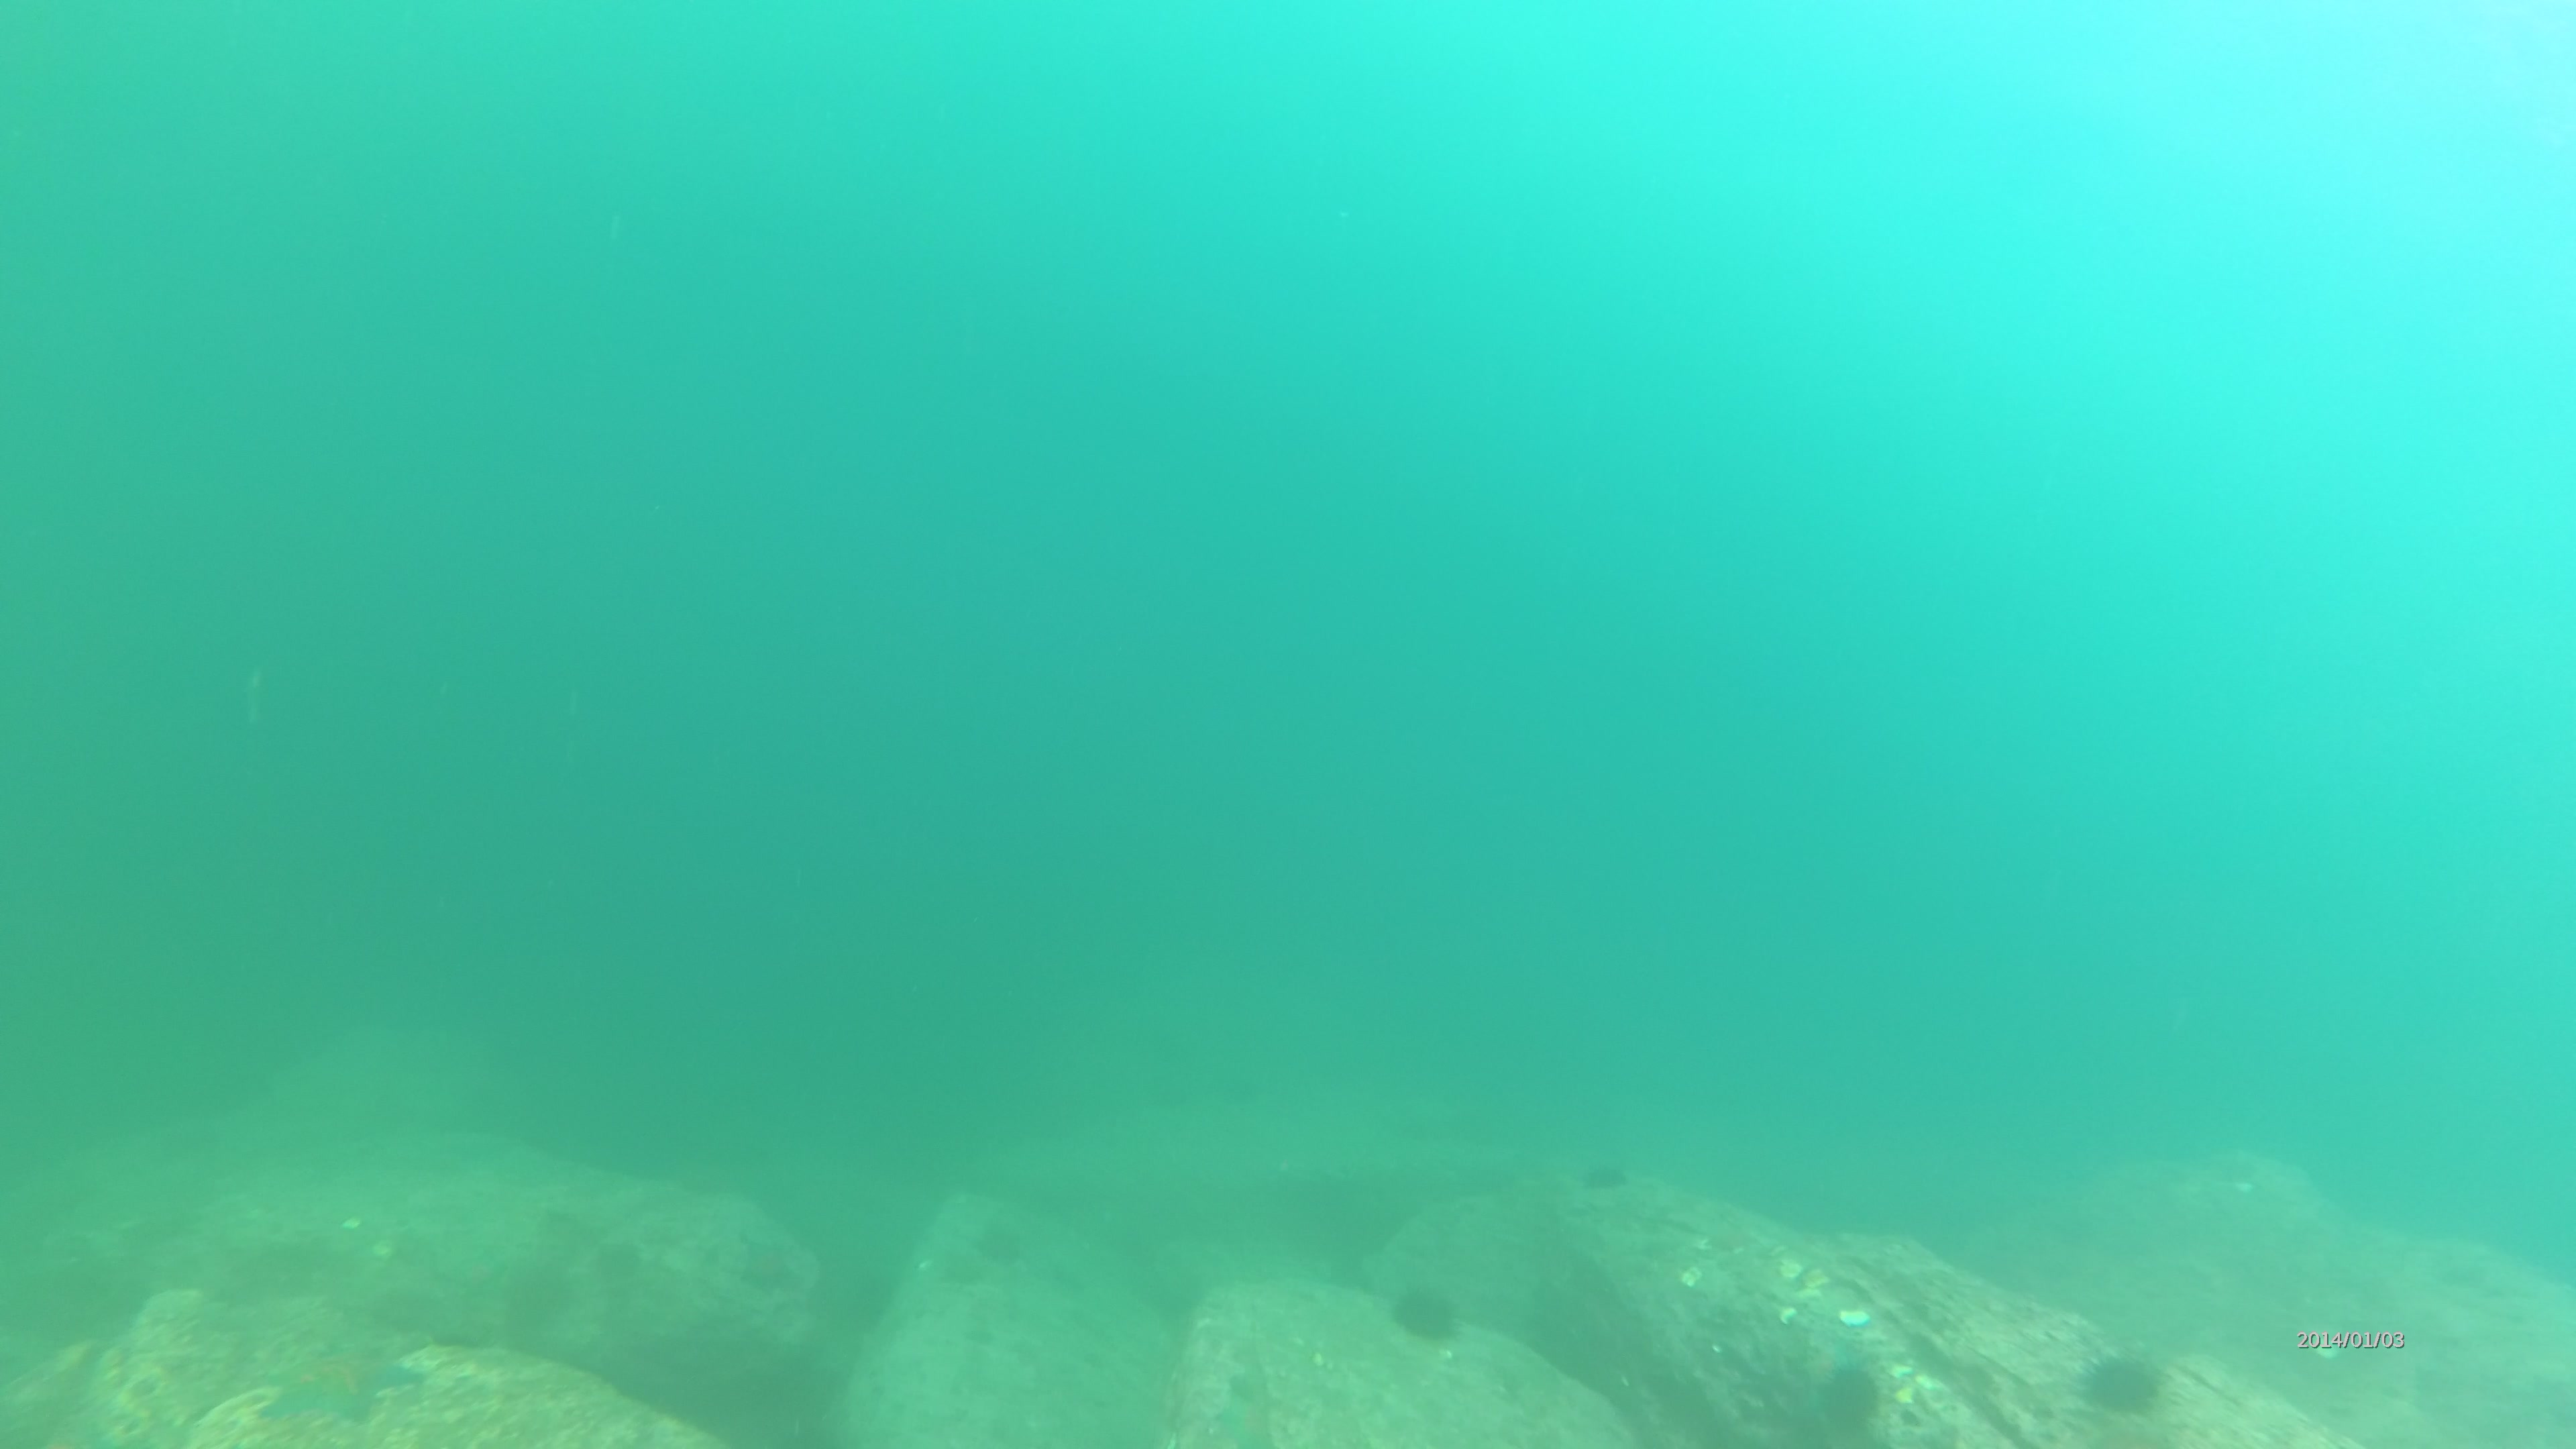echinus: (2068, 1343, 2166, 1408), (1810, 1369, 1890, 1430), (1389, 1281, 1458, 1339)
starfish: (251, 1336, 428, 1426)
